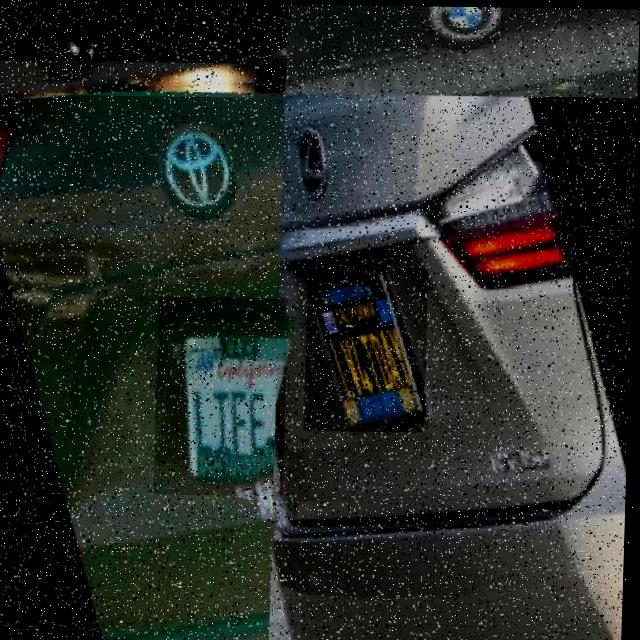LicensePlate: (157, 296, 290, 495), (306, 266, 430, 431), (0, 60, 256, 97)
